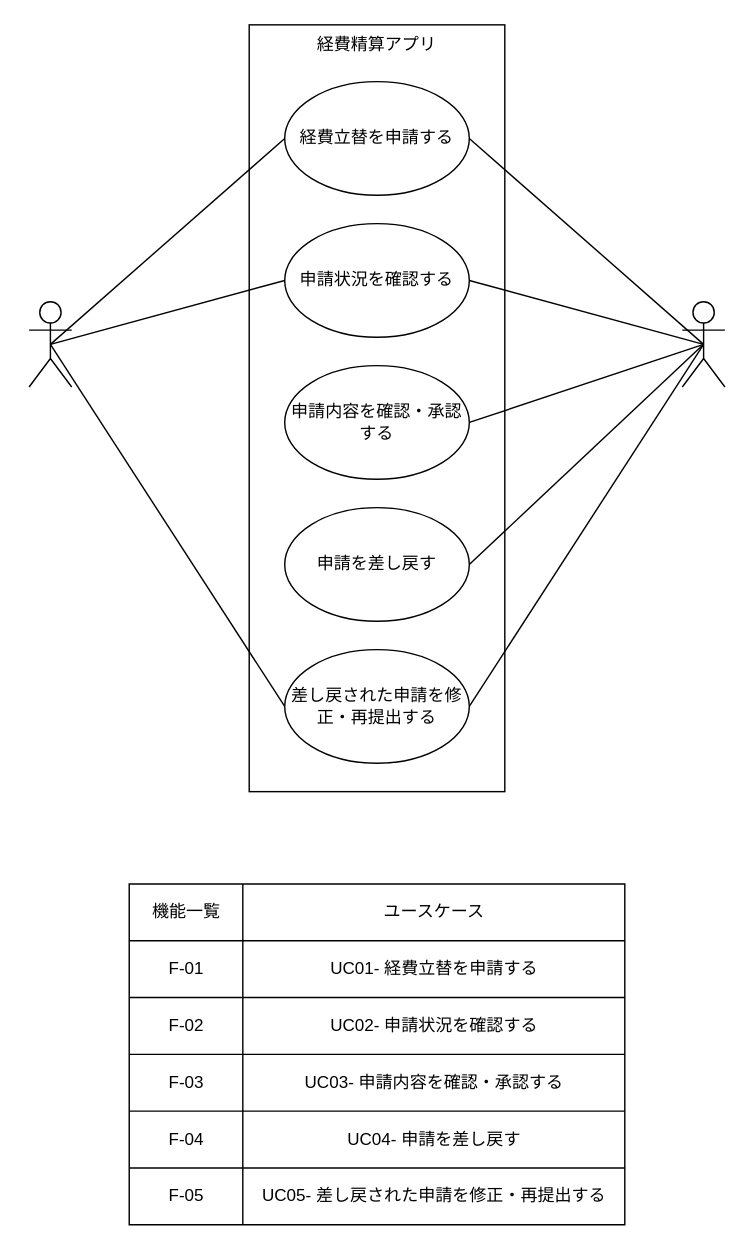
The diagram is 753 pixels wide and 1250 high, and some of its shapes have lost their labels. The shapes that lost their labels are listed below. From the top down, each one's centre as x and y in pixels, then its label:
At point 50,343: "申請者".
At point 703,343: "承認者".
